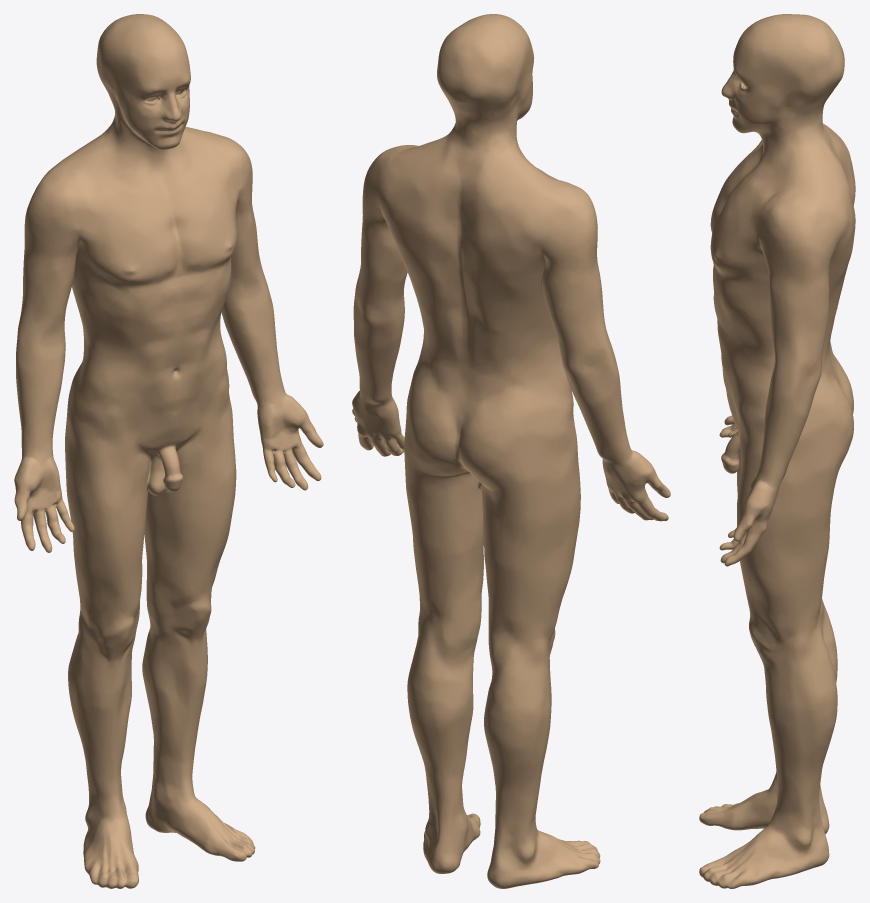
The model's file is skin.glb.
3 renders of one model, left to right at view 1: azimuth 30°, elevation 25°; view 2: azimuth 150°, elevation 25°; view 3: azimuth 270°, elevation 25°, orthographic. The views are drawn at different scales.
Visible parts, largest first — view 1: FMA7163_candidate; view 2: FMA7163_candidate; view 3: FMA7163_candidate.
Boxes of the visible parts, <box> form: FMA7163_candidate: <box>14,14,323,888</box>; FMA7163_candidate: <box>352,14,670,888</box>; FMA7163_candidate: <box>699,14,855,888</box>.
Size of the model in its own units: 6.67 by 17.19 by 2.92.
